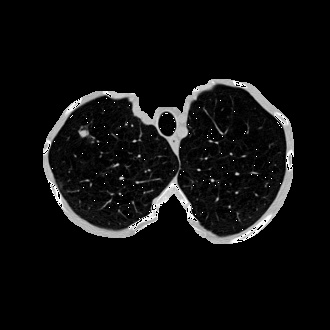PN: (79, 129, 87, 137)
